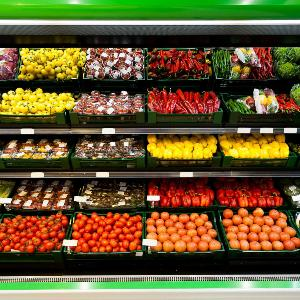bell_pepper: (148, 88, 224, 124), (218, 132, 294, 160), (212, 47, 276, 79), (150, 49, 210, 82), (216, 178, 286, 206), (147, 132, 219, 158), (227, 90, 299, 115), (148, 183, 216, 208)
tomato: (144, 212, 226, 256), (0, 212, 70, 262), (70, 209, 146, 252), (221, 211, 297, 251), (70, 130, 148, 164), (1, 91, 76, 123), (77, 176, 145, 208), (3, 179, 74, 209), (18, 48, 82, 80), (85, 48, 145, 81), (0, 138, 72, 162), (74, 91, 146, 114)
